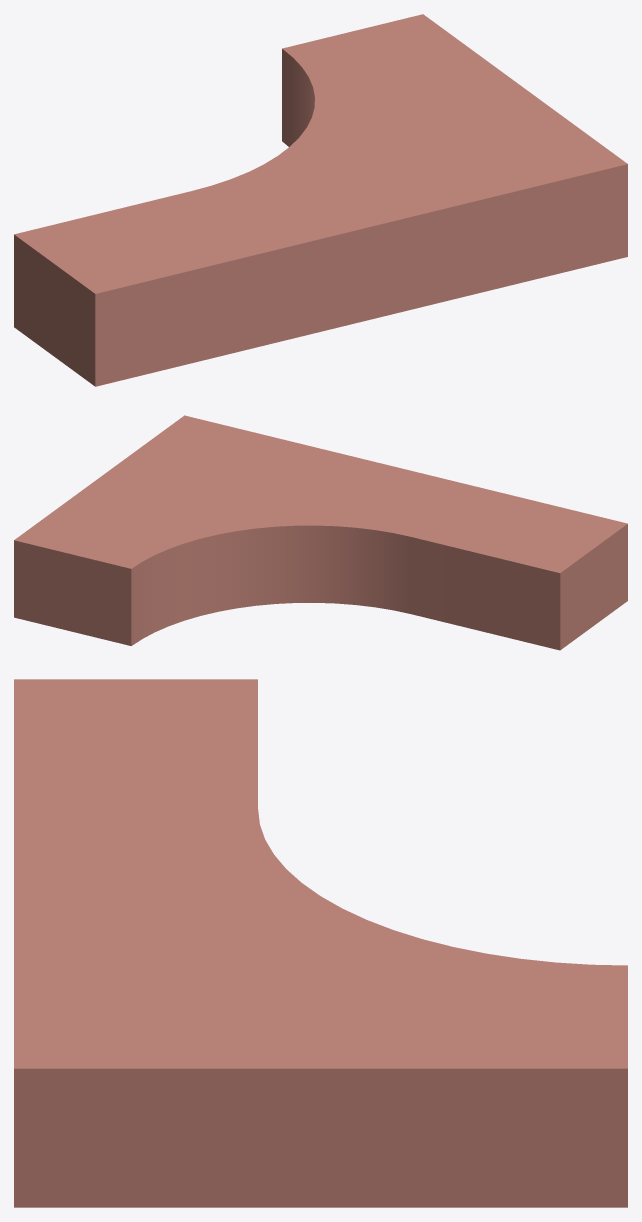
Rendered from RoundCorner20x30x5.fbx.
The picture shows the model from 3 angles, top to bottom: view 1: azimuth 30°, elevation 25°; view 2: azimuth 150°, elevation 25°; view 3: azimuth 270°, elevation 25°; orthographic projection. The views are drawn at different scales.
Visible parts, largest first — view 1: RoundCorner20x30.002; view 2: RoundCorner20x30.002; view 3: RoundCorner20x30.002.
Boxes of the visible parts, box(x1,y1,x2,y2) form: RoundCorner20x30.002: box(14, 14, 627, 386); RoundCorner20x30.002: box(14, 415, 627, 650); RoundCorner20x30.002: box(14, 679, 627, 1207).
Bounding box in the file's own units: 3002 × 500 × 2000.
